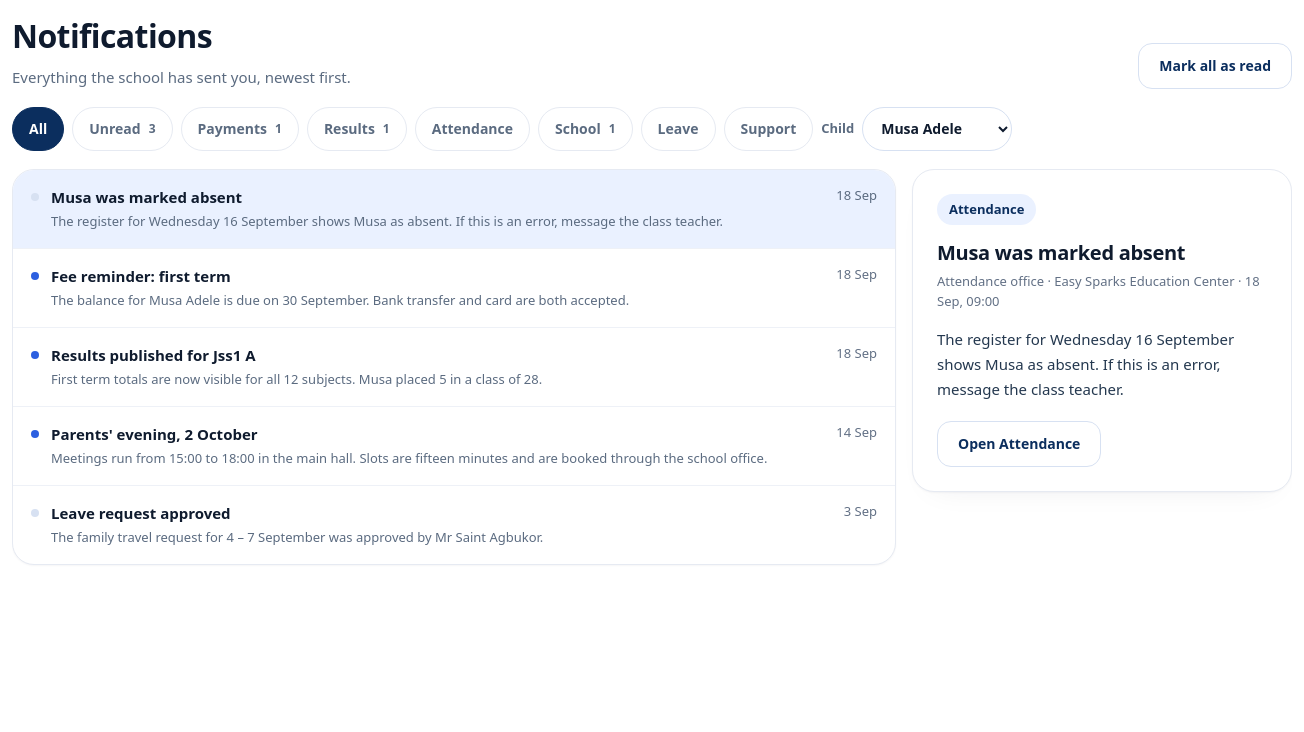
Test: Notifications (fixtures) › marks everything read with one request (read-all), not one per item
This screenshot has width=1304, height=732.
Check: the element named "Notification list" is shown, box [12,168,896,564]
Step 1. Click the button "Mark all as read" → (1215, 66), box [1138,42,1292,88]
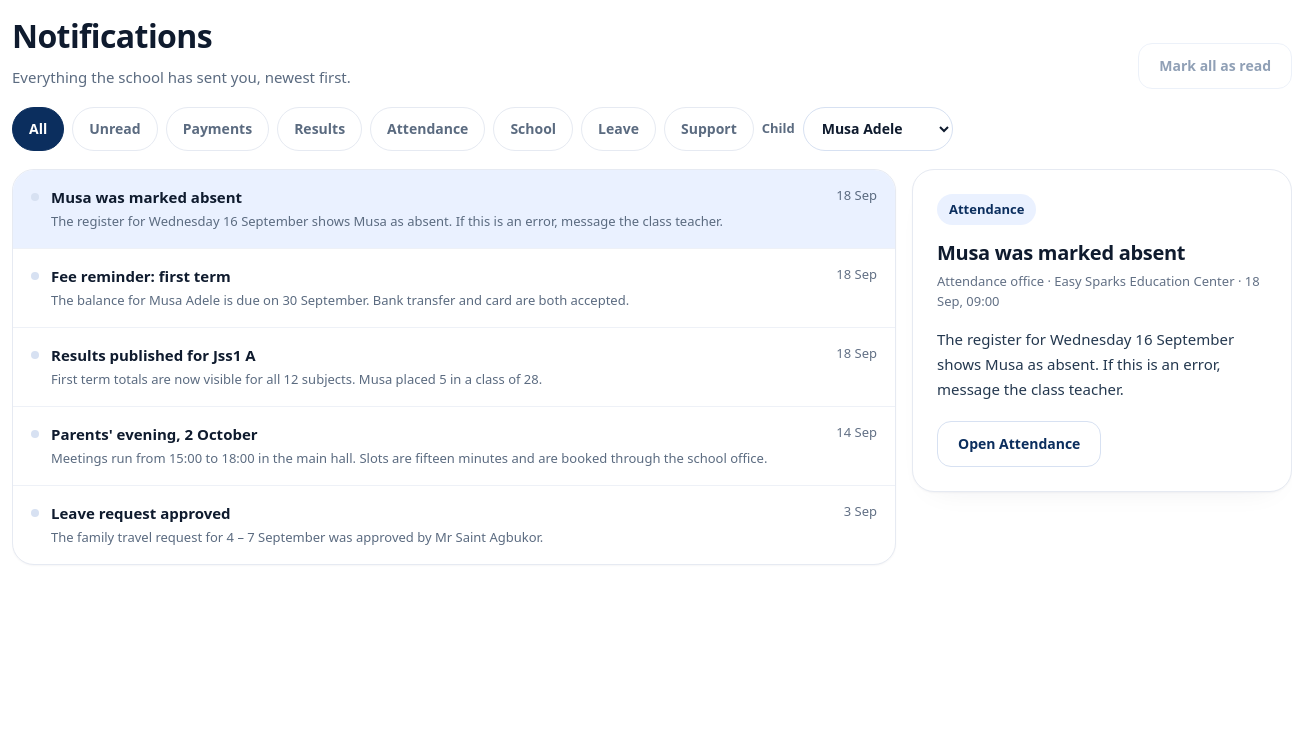
Check: the button "Mark all as read" is disabled, box [1138,42,1292,88]
